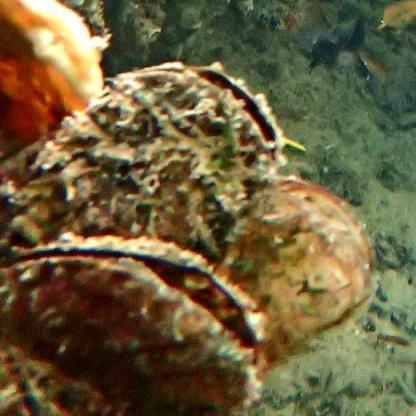Oyster- Indeterminate: (0, 61, 288, 256), (215, 172, 384, 362), (0, 0, 108, 158)
Oyster-Open: (0, 228, 267, 416)
